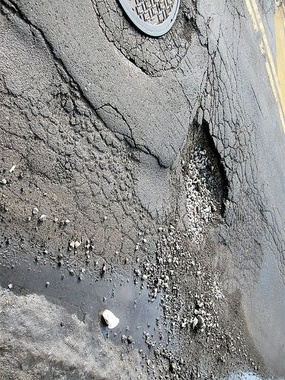pothole: (176, 110, 234, 240)
